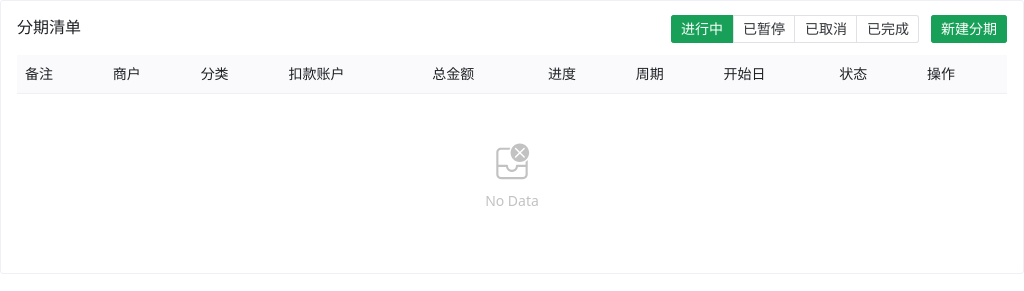
Test: InstallmentsPane 操作列渲染与确认交互（可用性矩阵与状态机见模块测试） › 已取消的分期不再提供状态操作（可用性矩阵归模块，此处验渲染接线）
This screenshot has width=1024, height=291.
Click the button with test id "filter-cancelled" at point(826, 29), box [795,15,857,43]
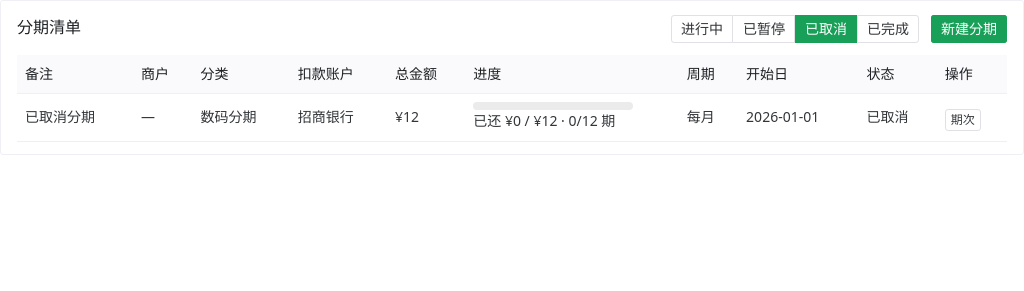
Result: the text "已取消分期" is shown at [17,94,133,142]
